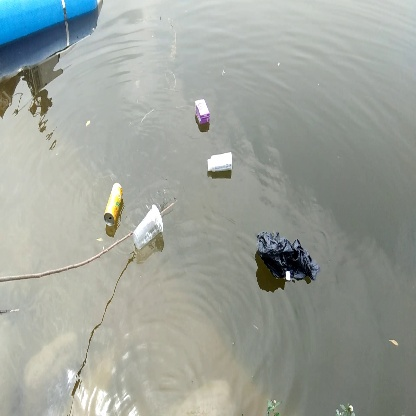bottle: (133, 204, 164, 252), (103, 182, 125, 225)
milk-box: (193, 96, 212, 130)
plastic-bag: (255, 228, 320, 287)
